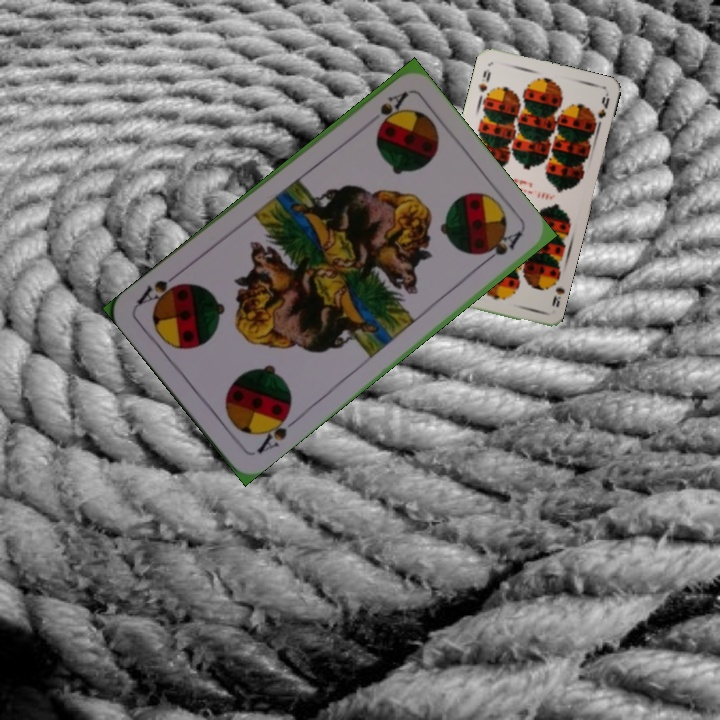S9: (546, 273, 566, 310), (474, 65, 493, 95)
SA: (252, 407, 300, 456), (375, 87, 411, 129)
